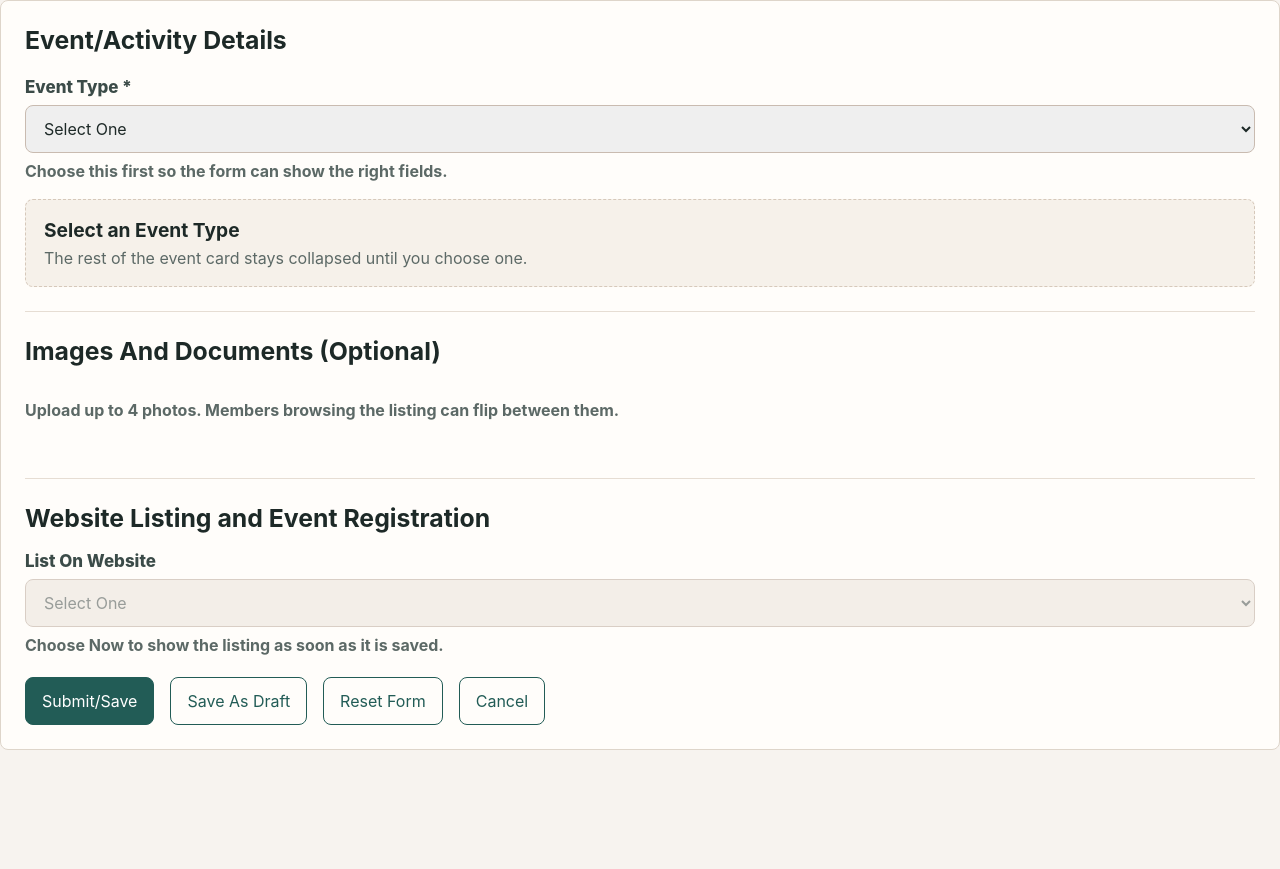
it: the challenge form hides the fields it does not use › offers no date or presenter input, but does offer image slots
Select "Challenges" in the dropdown labelled "Event Type". click: (640,129)
box: [25, 105, 1255, 153]
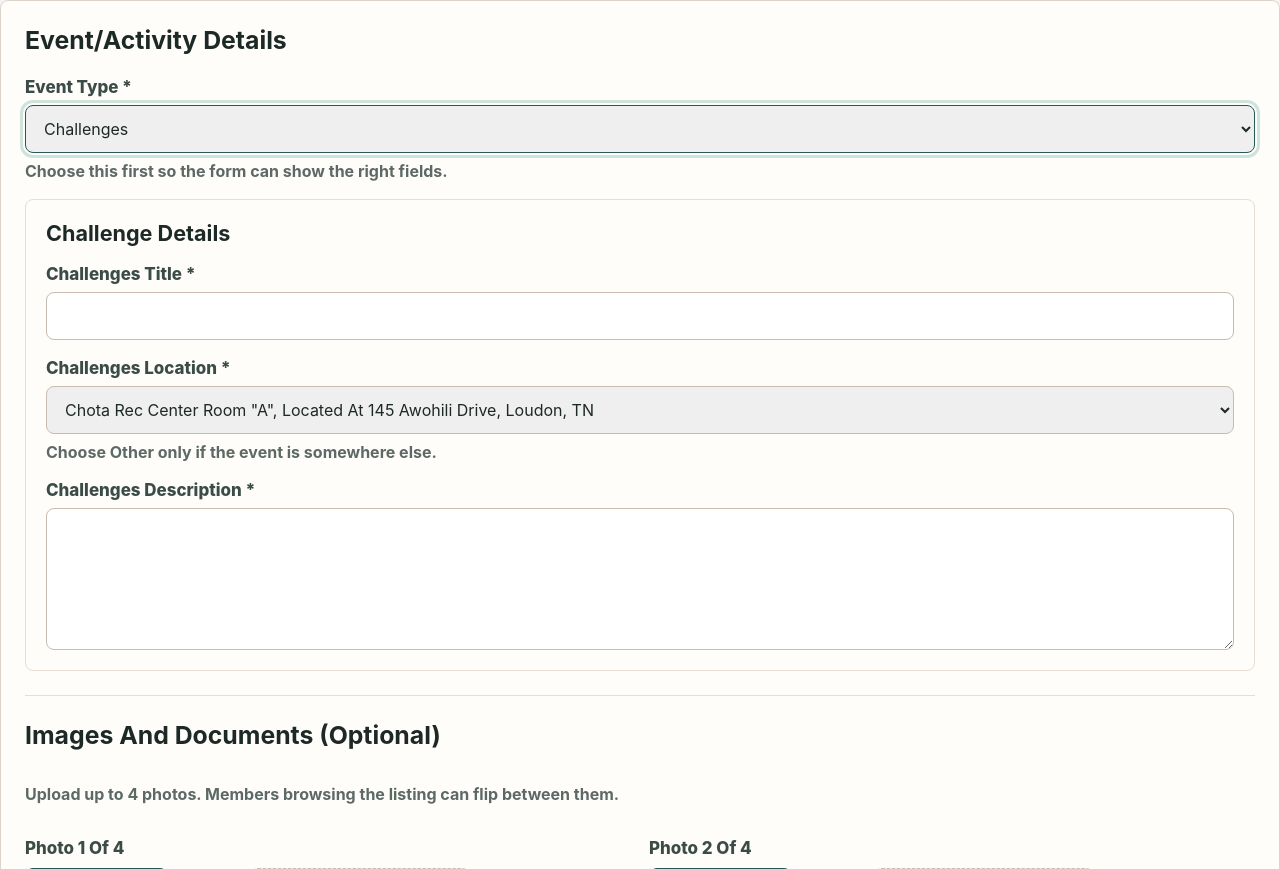
Check: the text "Photo 1 Of 4" is shown once, box [25, 838, 124, 858]
